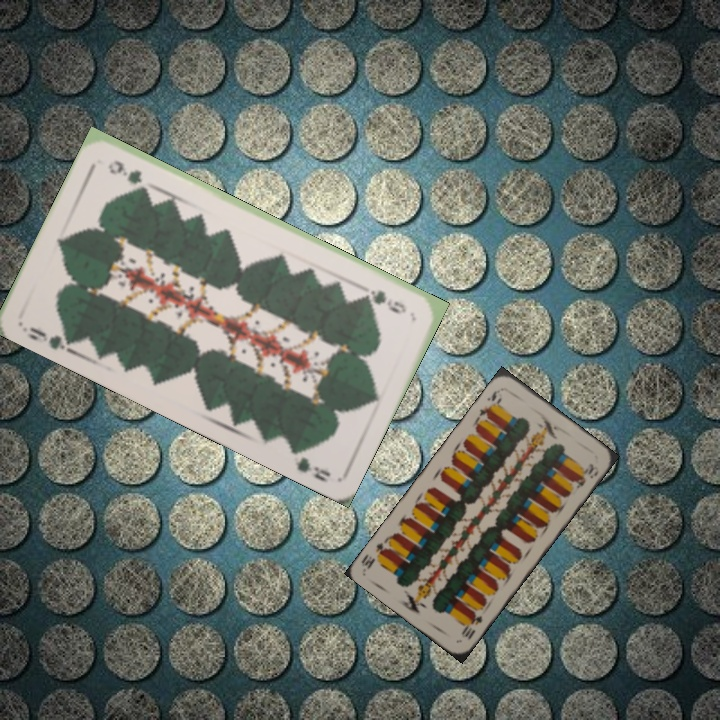E10: (475, 385, 504, 421), (457, 608, 485, 642)
G9: (25, 322, 78, 356), (359, 285, 409, 317)
